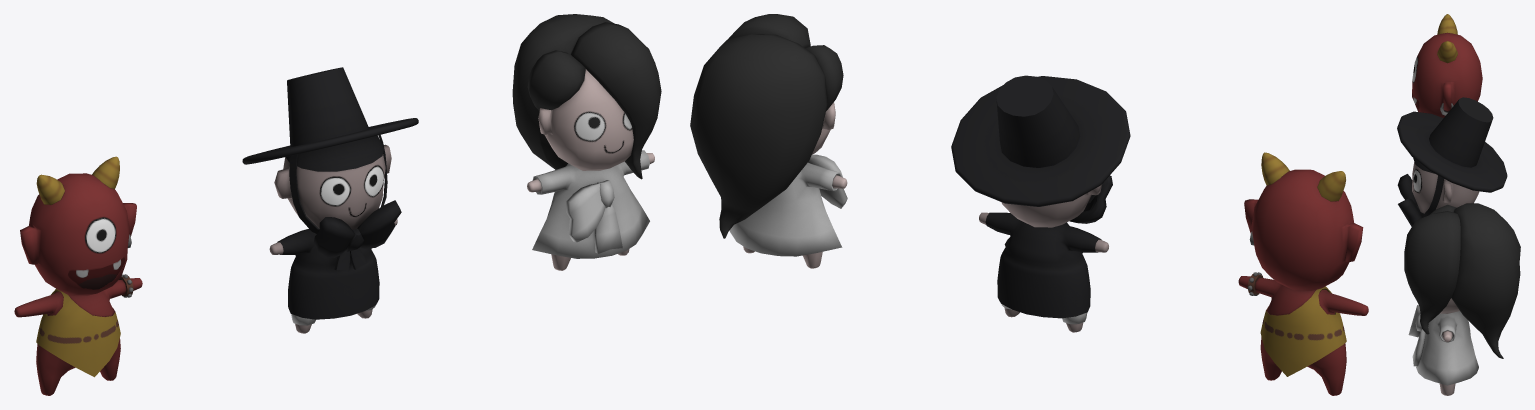
The model's file is GhostHouse_Doll.fbx.
3 renders of one model, left to right at view 1: azimuth 30°, elevation 25°; view 2: azimuth 150°, elevation 25°; view 3: azimuth 270°, elevation 25°, orthographic. The views are drawn at different scales.
Visible parts, largest first — view 1: MaidenGhost_Doll, Reaper_Doll, Dokkaebi_Doll; view 2: Reaper_Doll, MaidenGhost_Doll, Dokkaebi_Doll; view 3: MaidenGhost_Doll, Reaper_Doll, Dokkaebi_Doll.
Boxes of the visible parts, x1,y1,x2,y2 form: MaidenGhost_Doll: (512, 14, 661, 270); Reaper_Doll: (242, 67, 418, 333); Dokkaebi_Doll: (14, 156, 142, 395); Reaper_Doll: (951, 75, 1130, 332); MaidenGhost_Doll: (690, 14, 847, 268); Dokkaebi_Doll: (1238, 152, 1368, 395); MaidenGhost_Doll: (1404, 203, 1520, 395); Reaper_Doll: (1397, 97, 1507, 226); Dokkaebi_Doll: (1412, 14, 1482, 117).
Size of the model in its own units: 339 by 126 by 75.59.
Materials: 1 (1 with a texture image).
